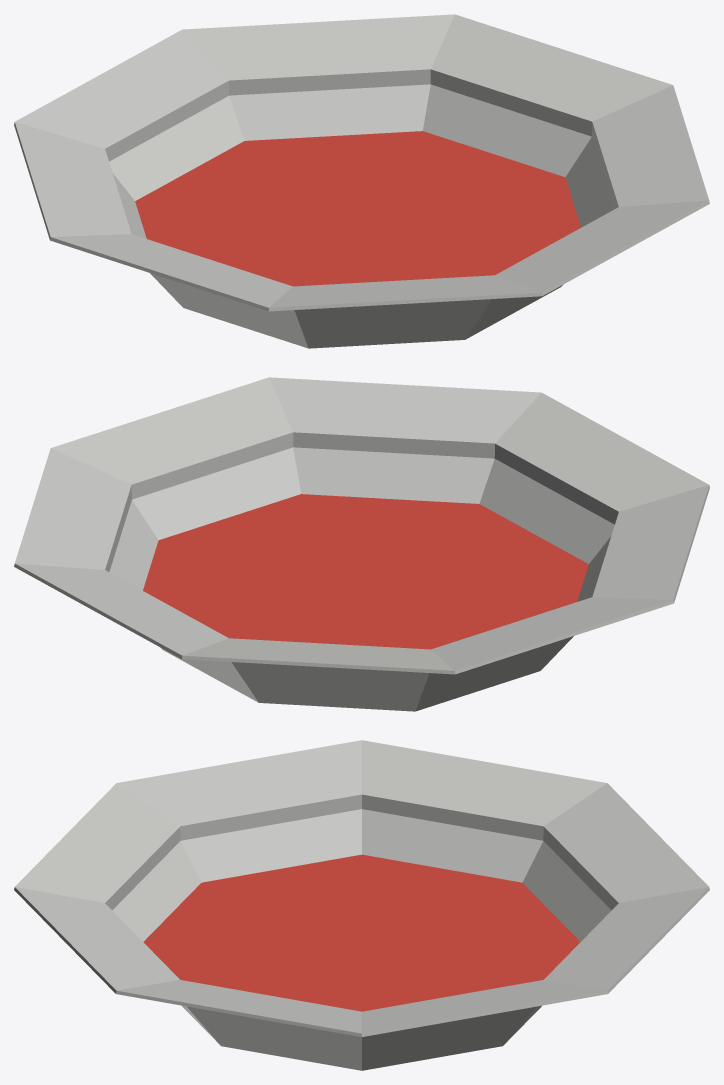
Rendered from Plate with Soup.fbx.
The picture shows the model from 3 angles, top to bottom: view 1: azimuth 30°, elevation 25°; view 2: azimuth 150°, elevation 25°; view 3: azimuth 270°, elevation 25°; orthographic projection. The views are drawn at different scales.
Visible parts, largest first — view 1: Plate with soup; view 2: Plate with soup; view 3: Plate with soup.
Part boxes in pixels (left/top/right/bottom): Plate with soup: left=14, top=14, right=709, bottom=348; Plate with soup: left=14, top=377, right=709, bottom=711; Plate with soup: left=14, top=740, right=709, bottom=1070.
Bounding box in the file's own units: 36.63 × 5.79 × 36.63.
